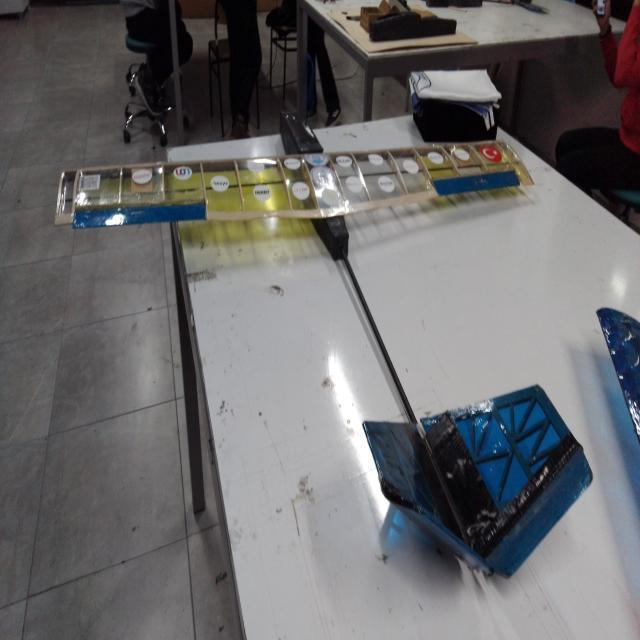iha: (60, 71, 630, 551)
